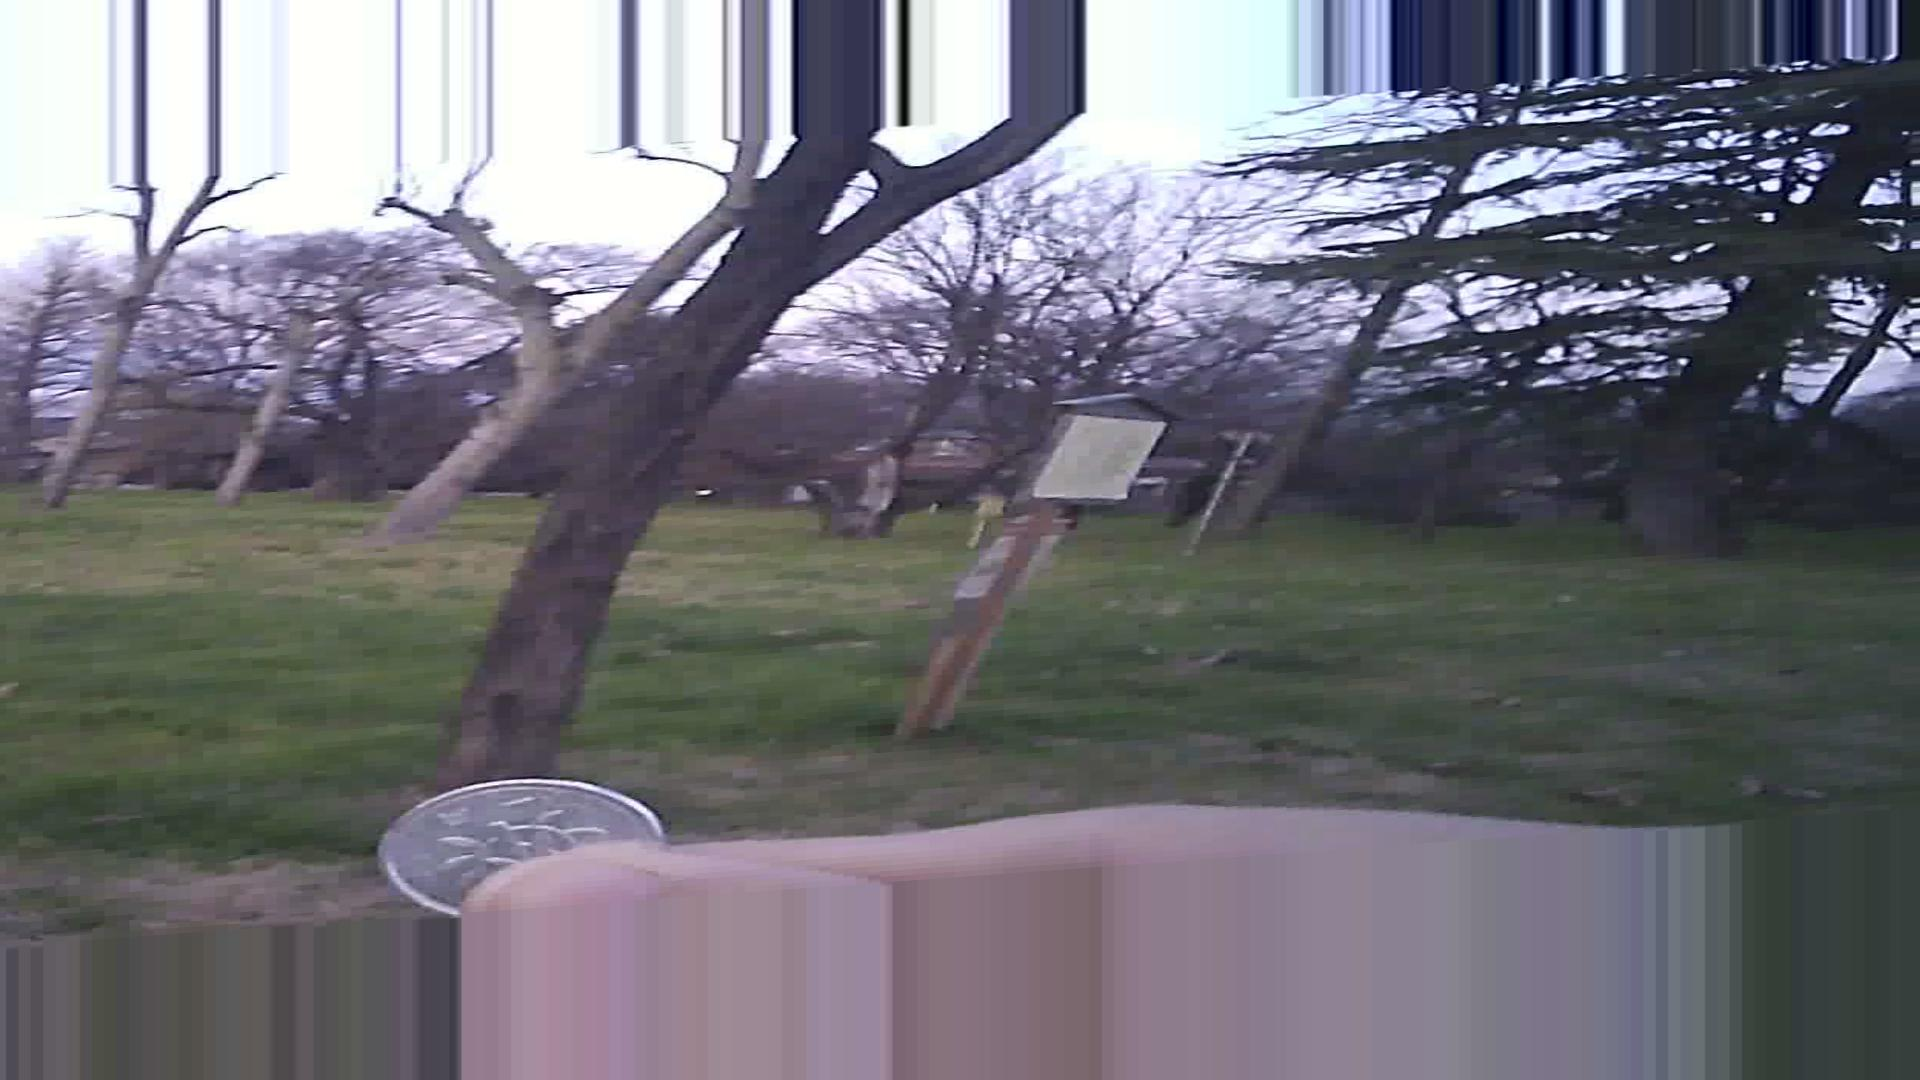1 Yen: (371, 766, 669, 916)
